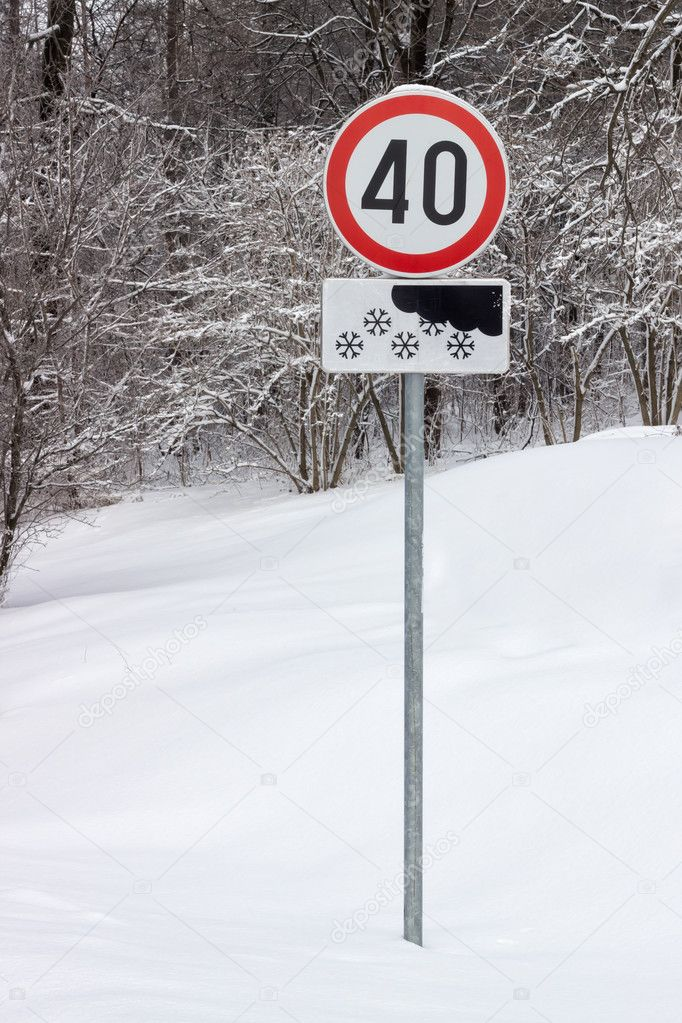40 Km/hr: (327, 91, 510, 267)
